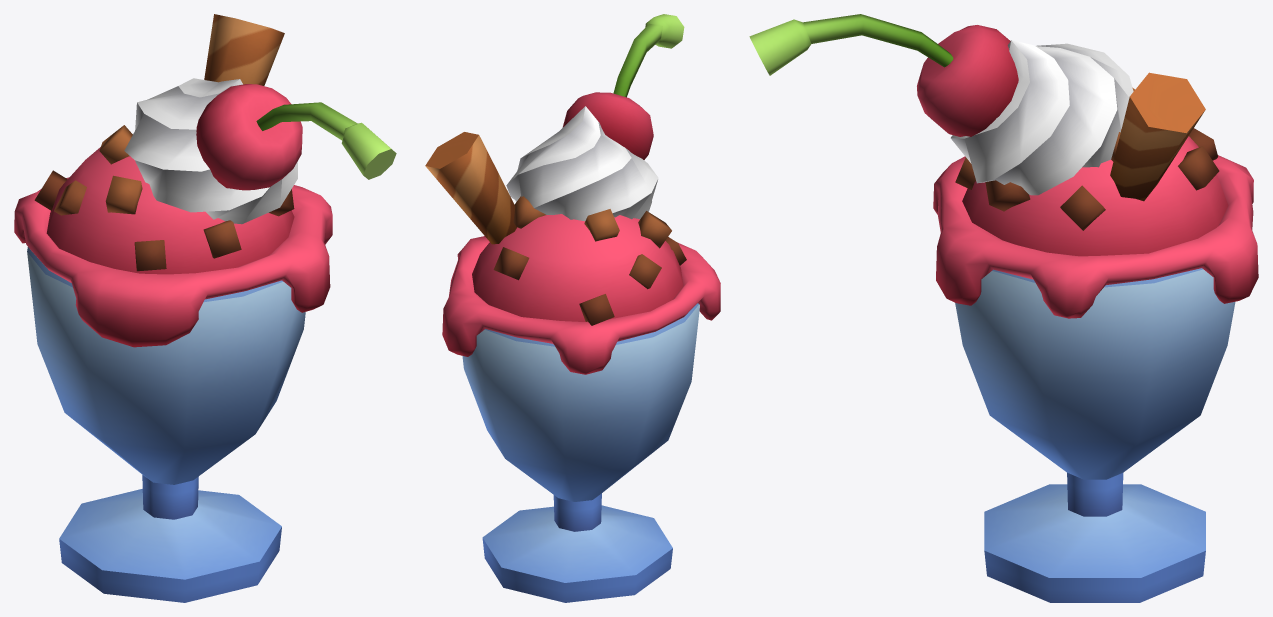
Rendered from m_IceCreamBowl01.fbx.
The picture shows the model from 3 angles, left to right: view 1: azimuth 30°, elevation 25°; view 2: azimuth 150°, elevation 25°; view 3: azimuth 270°, elevation 25°; orthographic projection. The views are drawn at different scales.
Parts seen in each view (by area): view 1: m_IceCreamBowl01; view 2: m_IceCreamBowl01; view 3: m_IceCreamBowl01.
Boxes of the visible parts, bbox=[...] form: m_IceCreamBowl01: bbox=[14, 14, 396, 602]; m_IceCreamBowl01: bbox=[425, 14, 720, 602]; m_IceCreamBowl01: bbox=[749, 14, 1258, 602].
Bounding box in the file's own units: 13.45 × 24.49 × 20.21.
